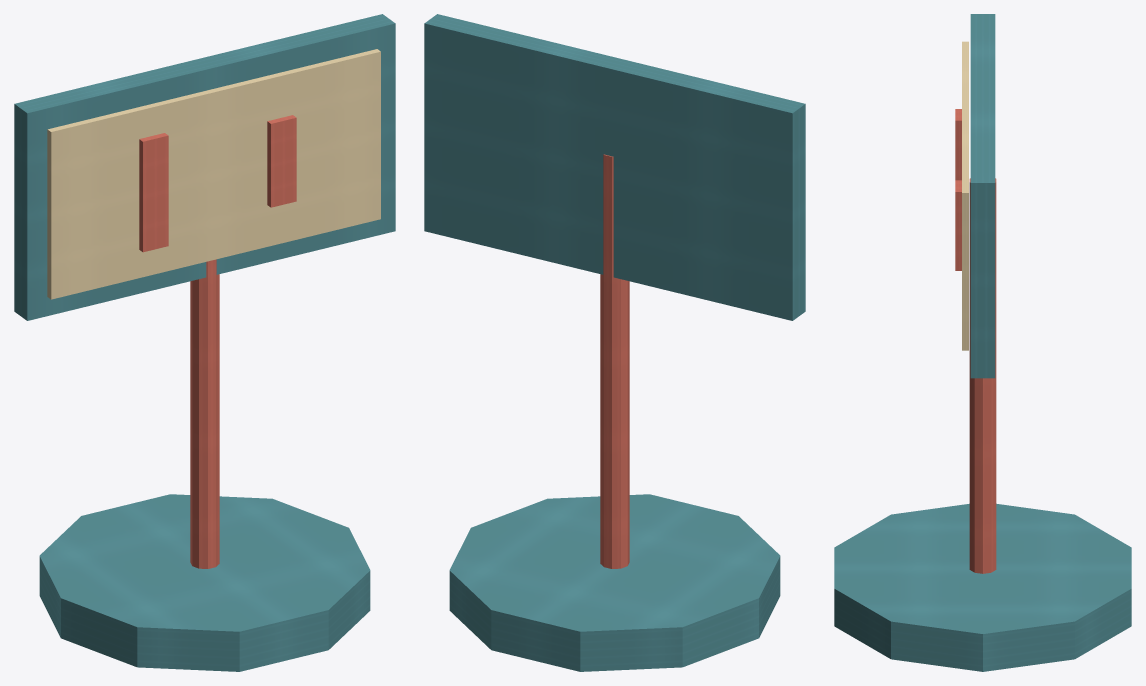
Rendered from atlas100-s071-a11.lod1.glb.
3 renders of one model, left to right at view 1: azimuth 30°, elevation 25°; view 2: azimuth 150°, elevation 25°; view 3: azimuth 270°, elevation 25°, orthographic. The views are drawn at different scales.
Visible parts, largest first — view 1: atlas100-s071-a11:part-003, atlas100-s071-a11:part-000, atlas100-s071-a11:part-002, atlas100-s071-a11:part-001, atlas100-s071-a11:part-004, atlas100-s071-a11:part-006; view 2: atlas100-s071-a11:part-002, atlas100-s071-a11:part-000, atlas100-s071-a11:part-001; view 3: atlas100-s071-a11:part-000, atlas100-s071-a11:part-002, atlas100-s071-a11:part-001, atlas100-s071-a11:part-003, atlas100-s071-a11:part-006, atlas100-s071-a11:part-004.
Part boxes in pixels (x1,y1,x2,y2): atlas100-s071-a11:part-003: [47, 49, 380, 299]; atlas100-s071-a11:part-000: [39, 494, 370, 671]; atlas100-s071-a11:part-002: [14, 14, 395, 320]; atlas100-s071-a11:part-001: [190, 259, 219, 568]; atlas100-s071-a11:part-004: [139, 133, 168, 252]; atlas100-s071-a11:part-006: [267, 115, 296, 207]; atlas100-s071-a11:part-002: [424, 14, 805, 320]; atlas100-s071-a11:part-000: [449, 494, 780, 671]; atlas100-s071-a11:part-001: [600, 154, 629, 568]; atlas100-s071-a11:part-000: [834, 503, 1131, 671]; atlas100-s071-a11:part-002: [970, 14, 995, 378]; atlas100-s071-a11:part-001: [969, 178, 996, 573]; atlas100-s071-a11:part-003: [962, 41, 968, 350]; atlas100-s071-a11:part-006: [955, 180, 961, 270]; atlas100-s071-a11:part-004: [955, 109, 961, 180].
Size of the model in its own units: 1.15 by 1.61 by 0.856.
3 materials, 3 textured.
